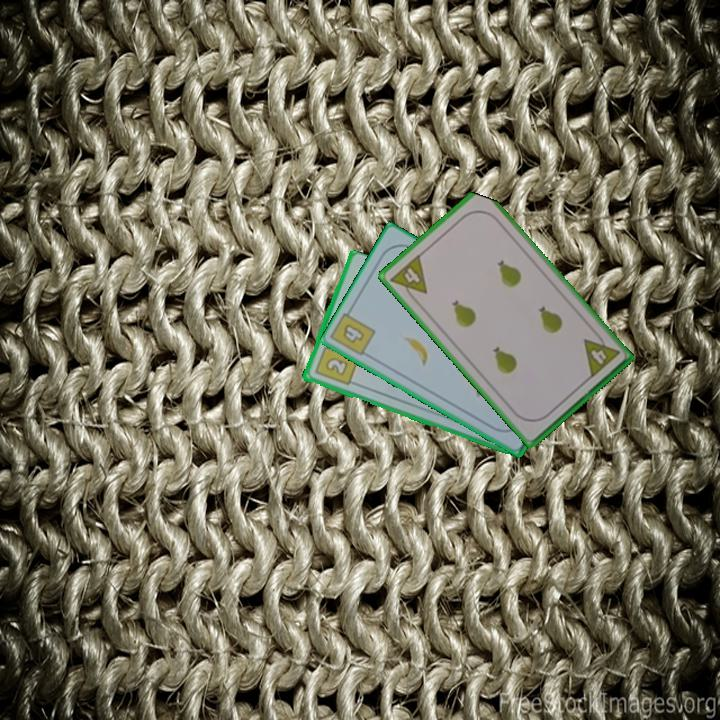2b: (311, 338, 360, 388)
4b: (339, 320, 367, 346)
4p: (386, 251, 430, 305), (580, 328, 622, 381)
